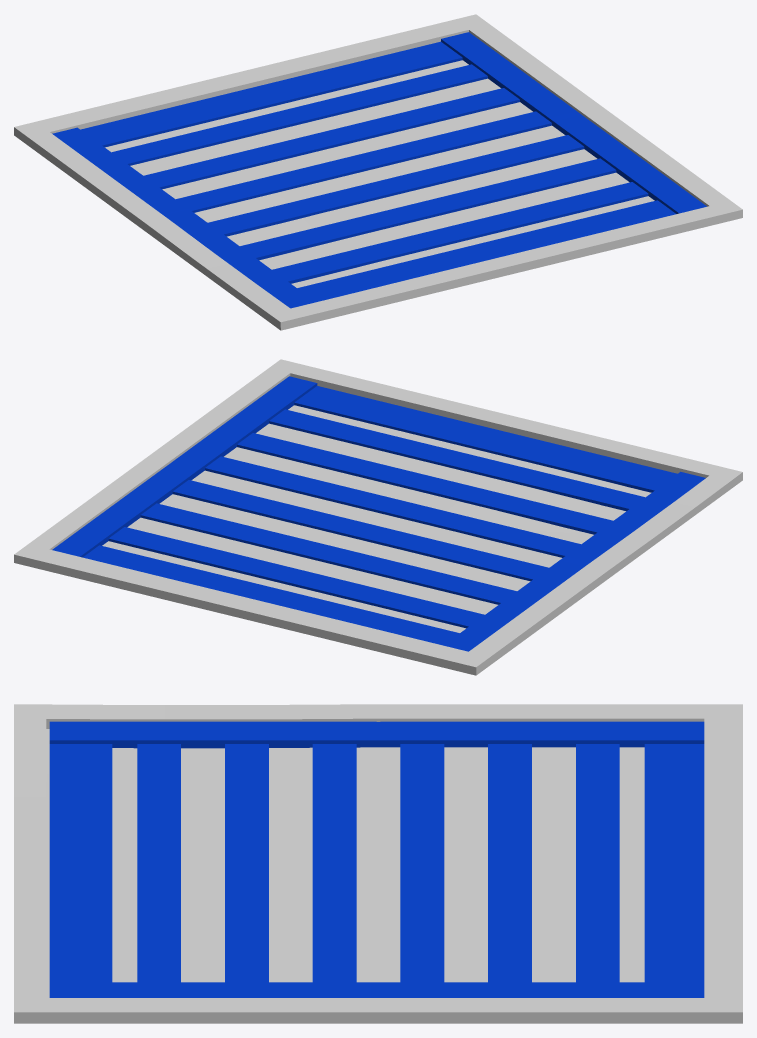
Rendered from suelo 2.fbx.
3 views of the same model, one above another, from view 1: azimuth 30°, elevation 25°; view 2: azimuth 150°, elevation 25°; view 3: azimuth 270°, elevation 25° (orthographic). The views are drawn at different scales.
Parts seen in each view (by area): view 1: Box006; view 2: Box006; view 3: Box006.
Boxes of the visible parts, box(x1,y1,x2,y2) form: Box006: box(14, 14, 742, 330); Box006: box(14, 359, 742, 675); Box006: box(14, 704, 742, 1023).
Bounding box in the file's own units: 74.66 × 1.31 × 74.66.
